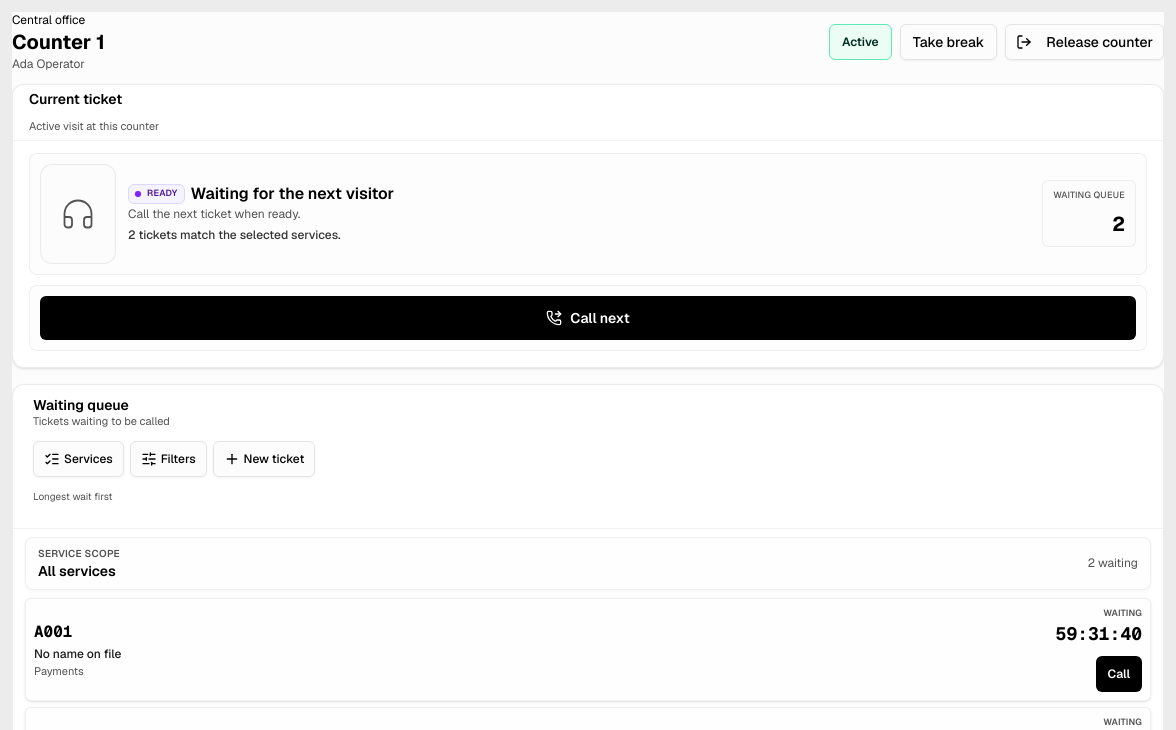
Scenario: StaffWorkspacePage integration › shows a localized inline fallback when starting a break fails without detail
This screenshot has width=1176, height=730.
Click the button "Take break". click: (949, 42)
box: top-left (900, 24), bottom-right (997, 60)
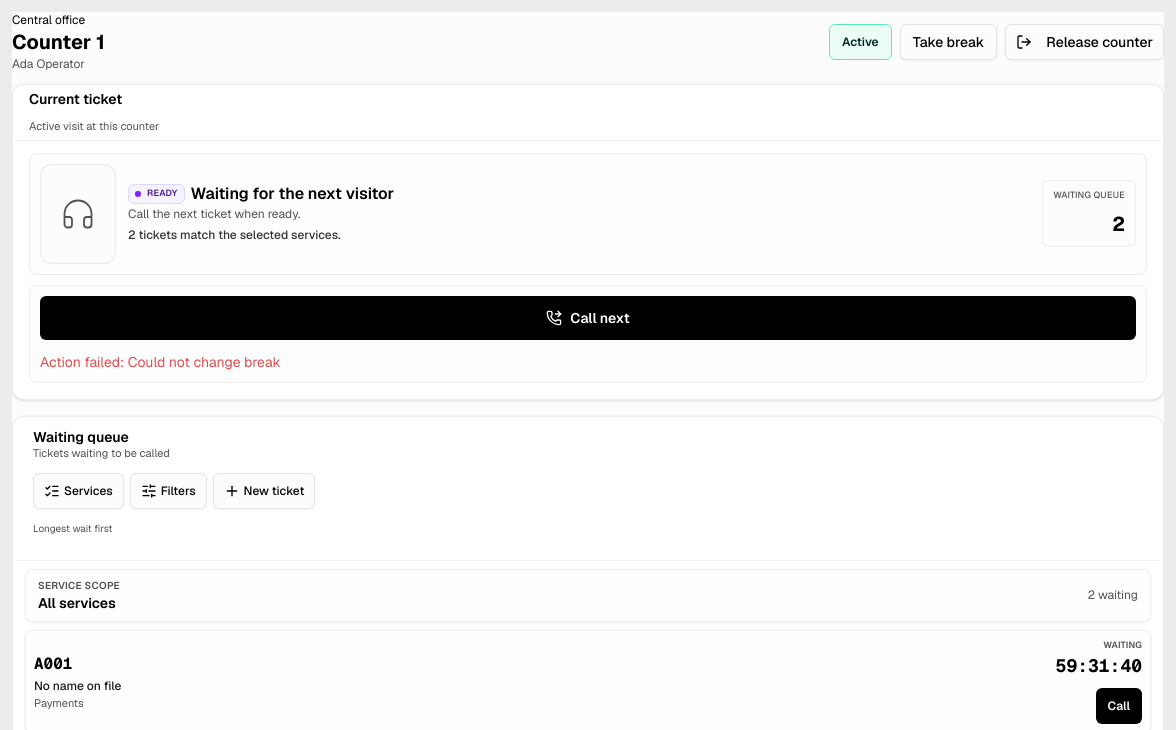
Check: the message "Action failed: Could not change break" is shown, box top-left (40, 353), bottom-right (281, 371)
